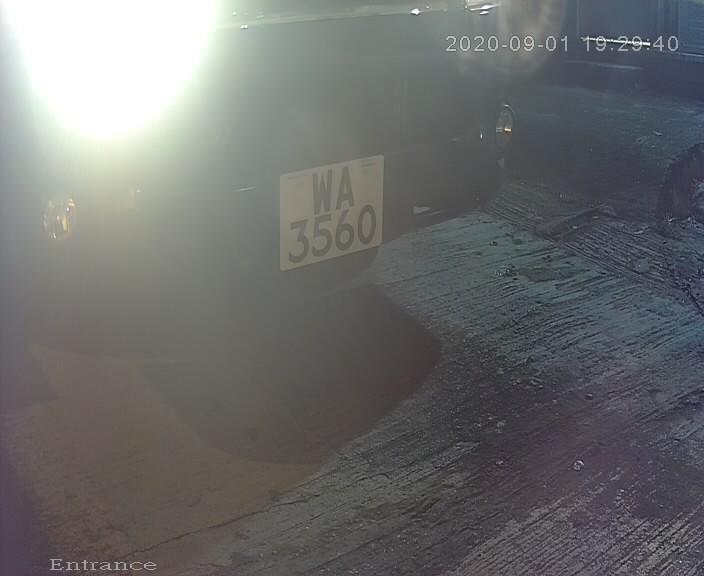License Plate: (271, 145, 390, 281)
